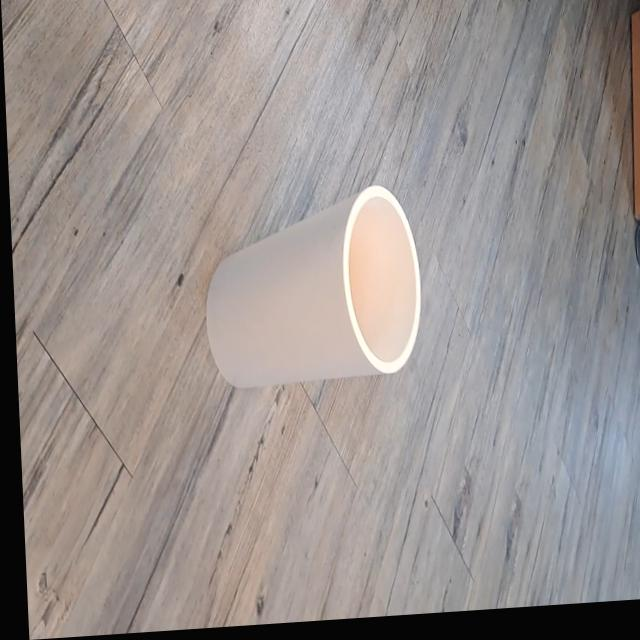CORAL: (172, 156, 439, 467)
